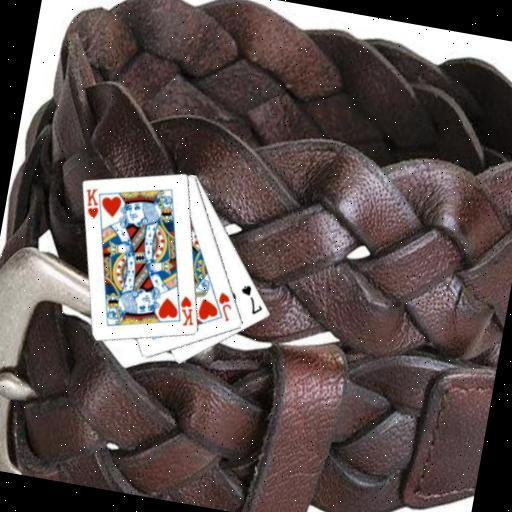7S: (234, 281, 268, 317)
JH: (212, 288, 236, 323)
KH: (79, 183, 105, 221), (173, 292, 199, 329)
